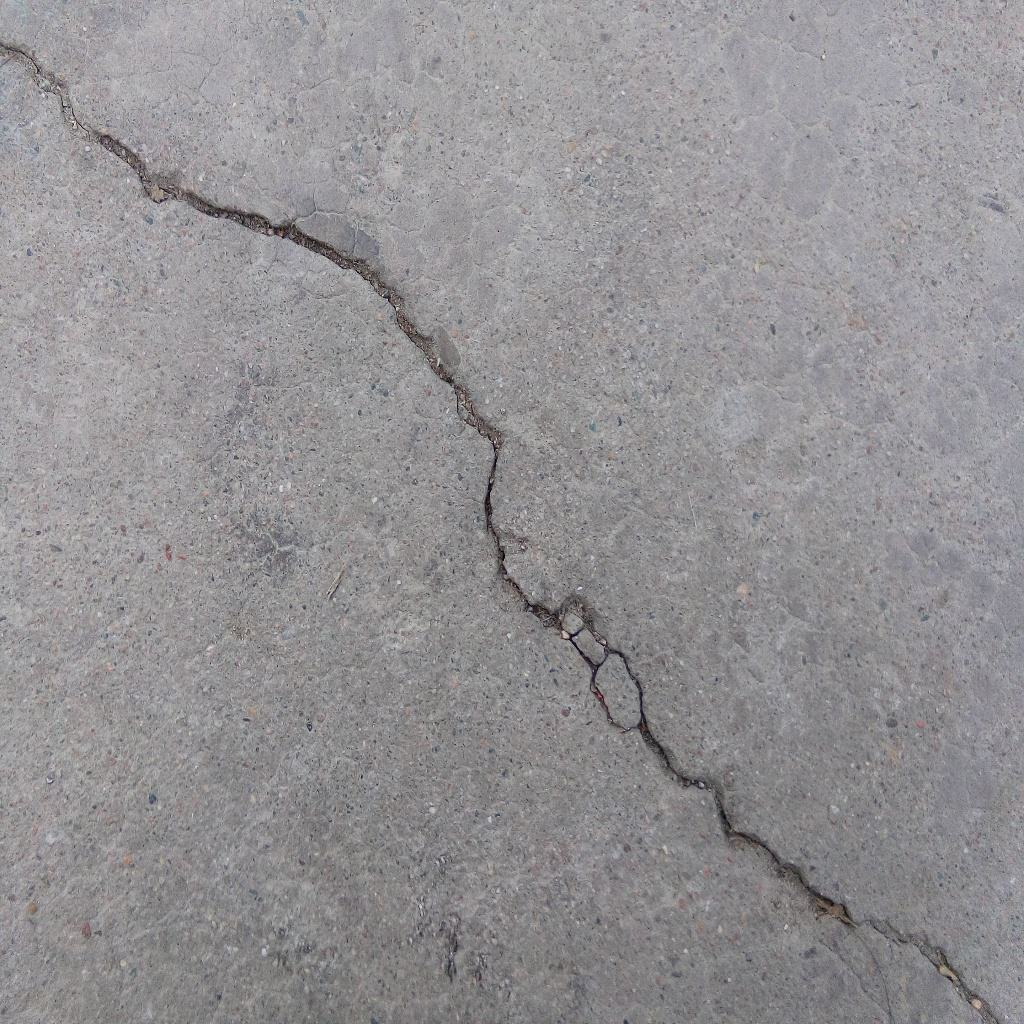Crack: (1, 36, 1004, 1024)
